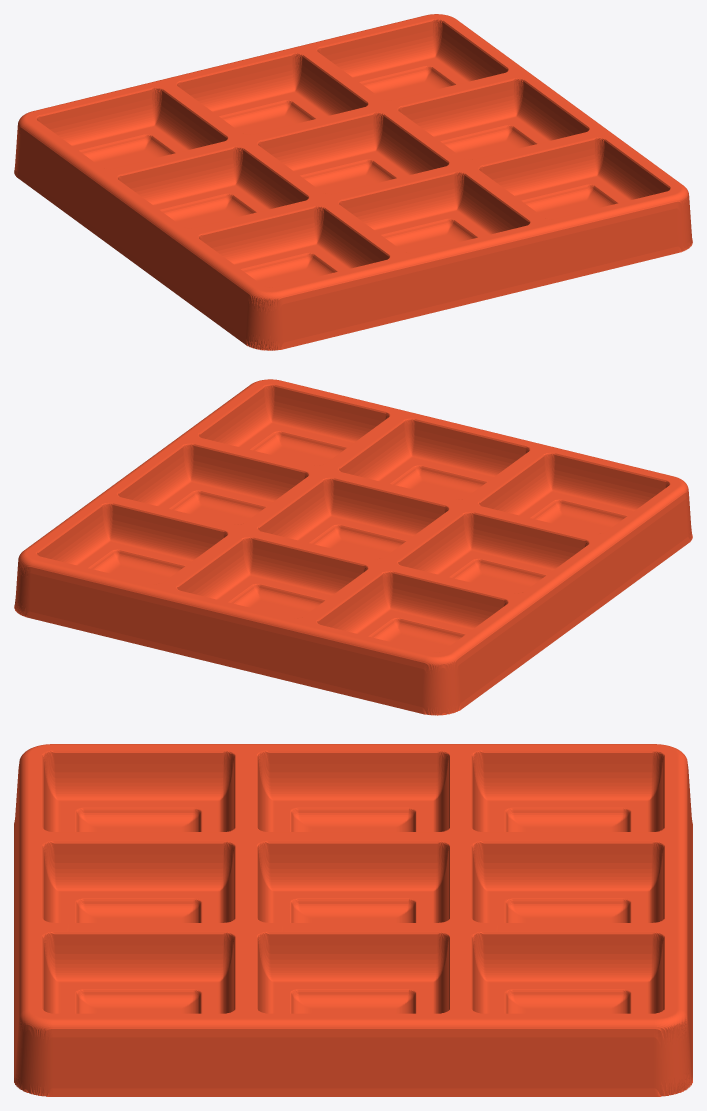
File: mold.glb
3 views of the same model, one above another, from view 1: azimuth 30°, elevation 25°; view 2: azimuth 150°, elevation 25°; view 3: azimuth 270°, elevation 25° (orthographic). The views are drawn at different scales.
Visible parts, largest first — view 1: geometry_0; view 2: geometry_0; view 3: geometry_0.
Boxes of the visible parts, x1=… form: geometry_0: x1=14, y1=14, x2=692, y2=350; geometry_0: x1=14, y1=379, x2=692, y2=715; geometry_0: x1=14, y1=744, x2=692, y2=1096.
Size of the model in its own units: 0.1595 by 0.0185 by 0.1595.
